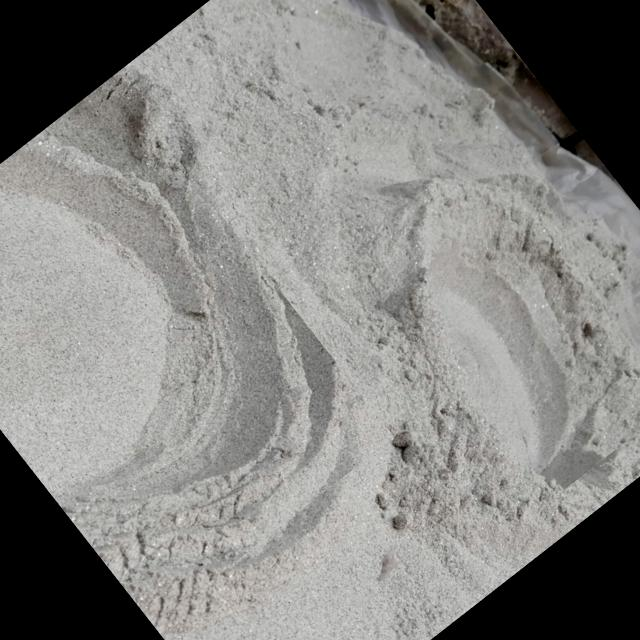C20: (0, 122, 317, 555), (420, 184, 606, 481)
